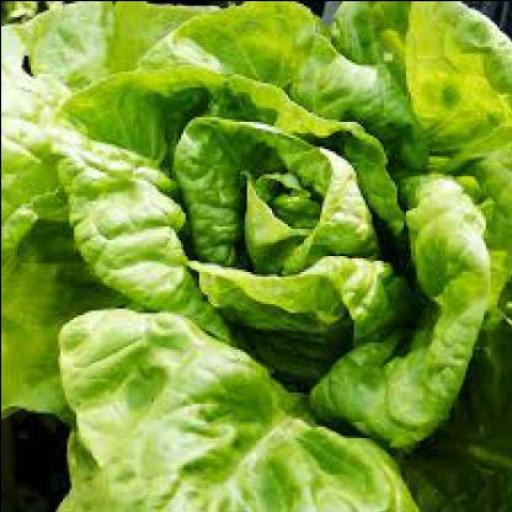biodegradable: (1, 1, 510, 510)
